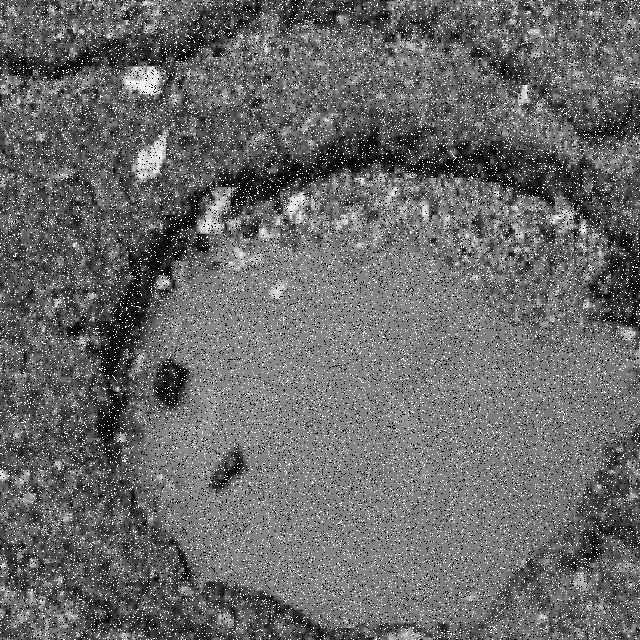pothole: (104, 159, 640, 640)
